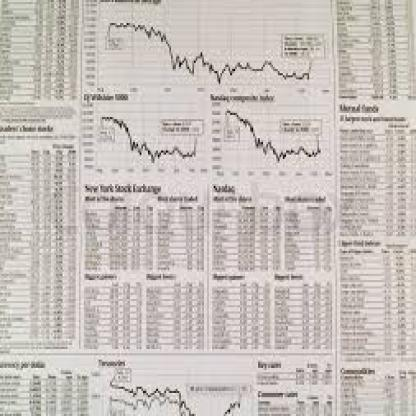Paper: (1, 8, 416, 415)
